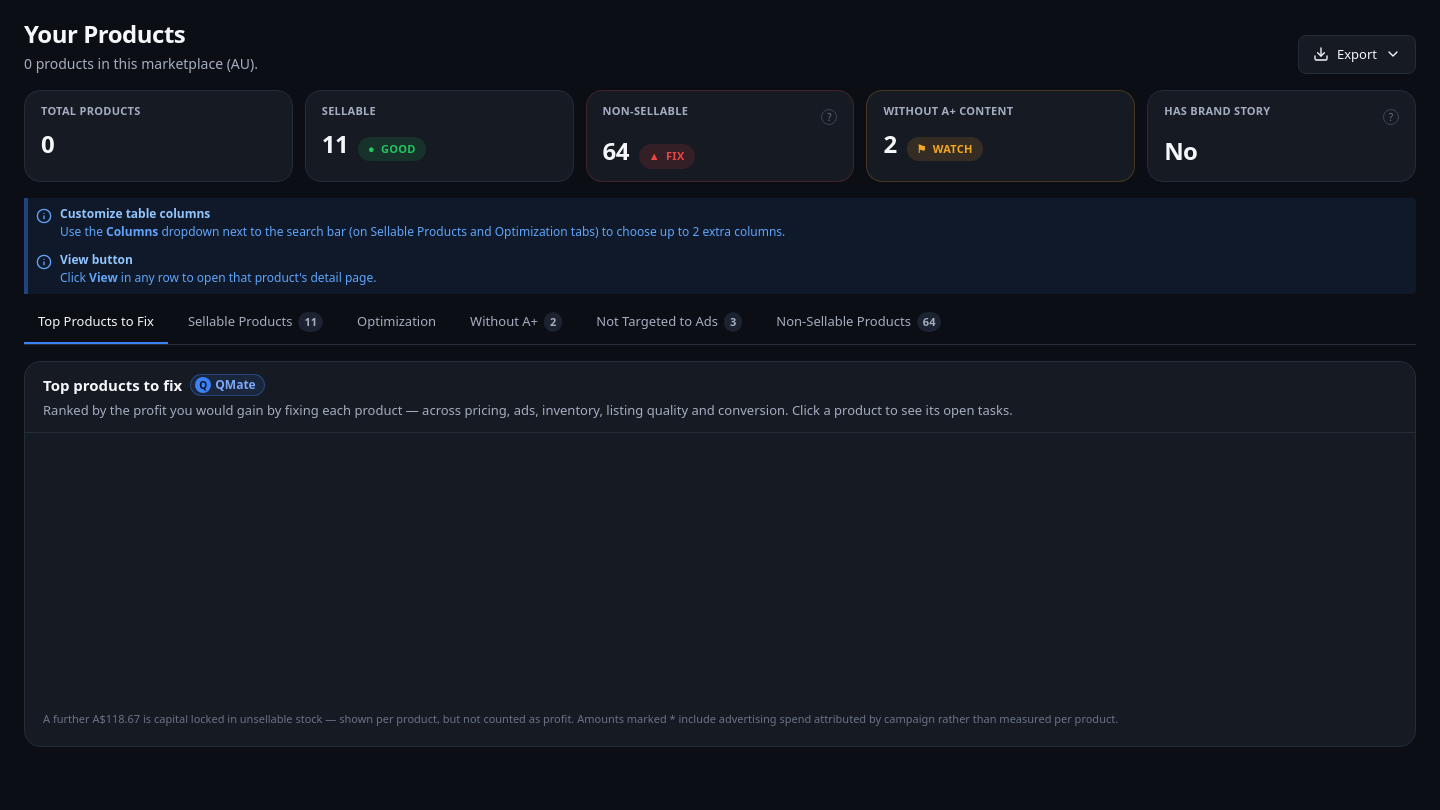
Test: Your Products — Top Products to Fix tab › still lets the seller reach the product table, with its search box back
What coordinates should you click on to do the following:
click the button "Sellable Products 11"
I would click on:
 (256, 323)
Its box is [174,302,337,344].
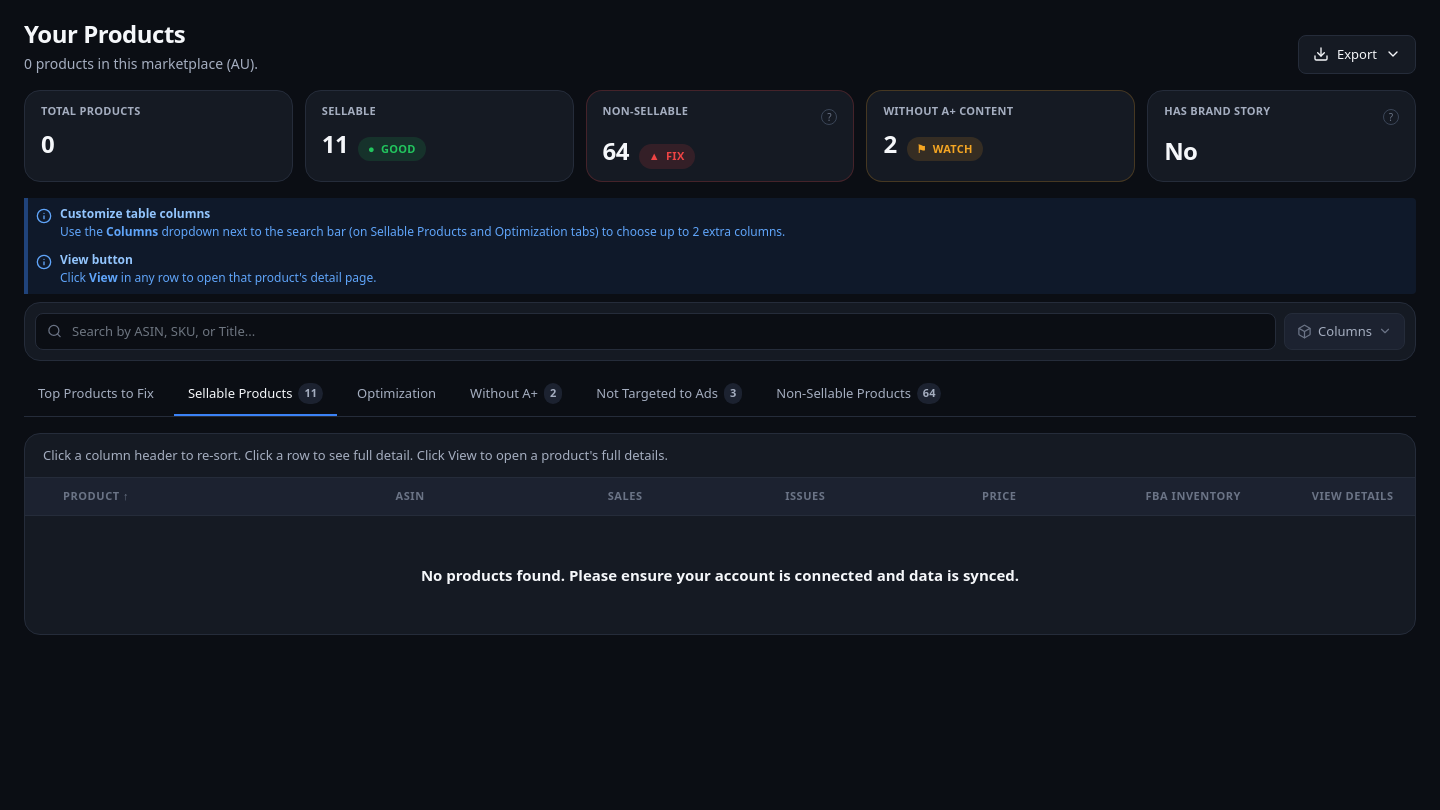
Expected: the text "Click a column header to re-sort" is shown, [43,446,668,464]
Expected: the field with placeholder "Search by ASIN, SKU, or Title..." is shown, [35,312,1276,350]
